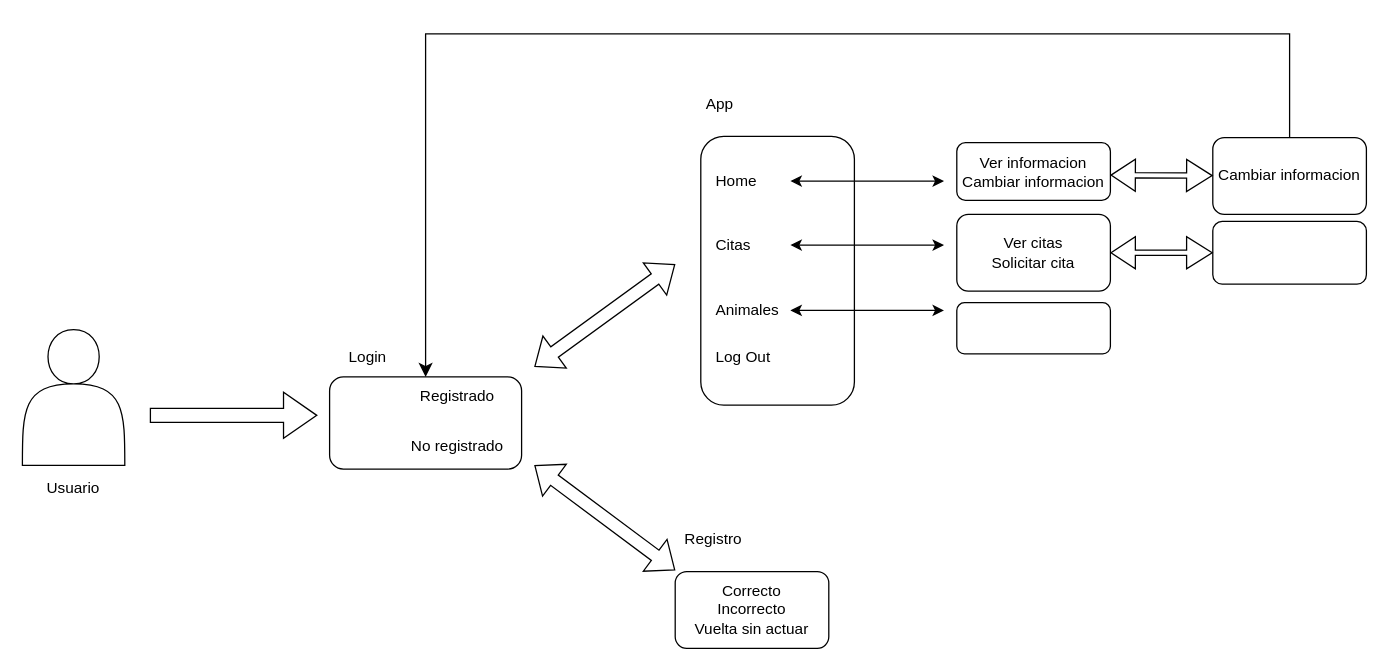
Image size: 1389x671. Some labels were removed from this diagram. The centre of each missing label's shape, as x and y in pixels:
"Lista de animales" belongs at point 1033,327.
"Solicitar cita" belongs at point 1289,252.
